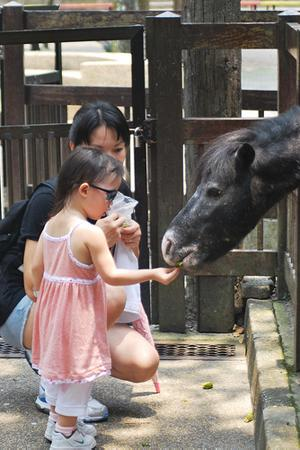person: (30, 145, 179, 449)
